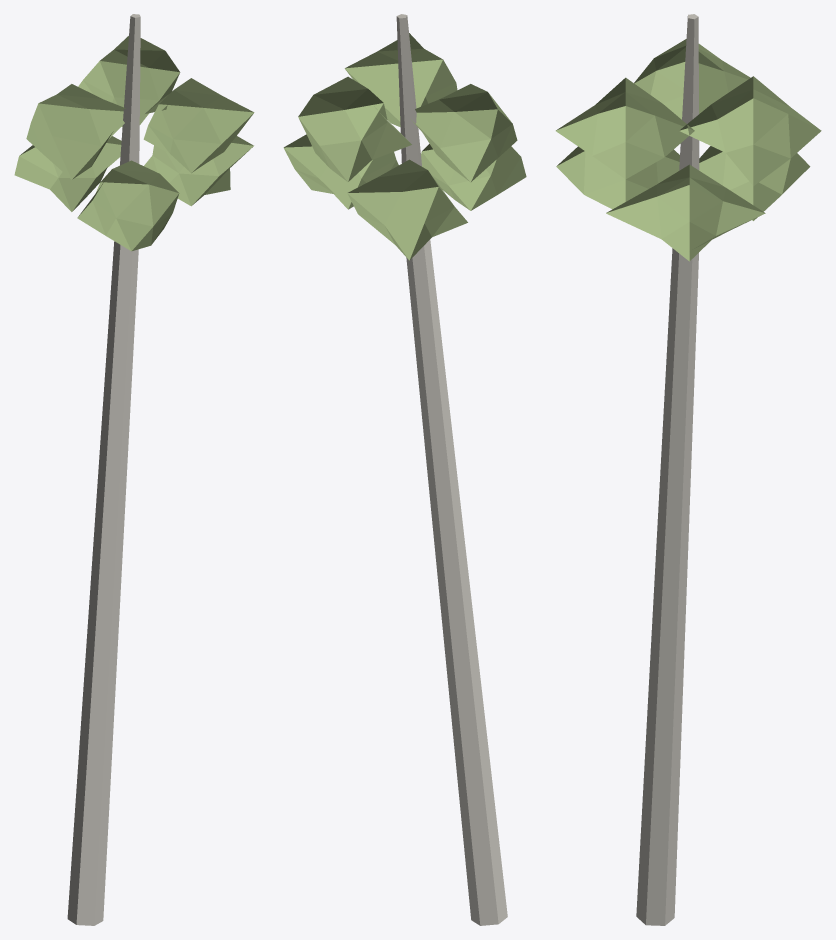
File: birch_v11.glb
3 renders of one model, left to right at view 1: azimuth 30°, elevation 25°; view 2: azimuth 150°, elevation 25°; view 3: azimuth 270°, elevation 25°, orthographic. The views are drawn at different scales.
Visible parts, largest first — view 1: lod0; view 2: lod0; view 3: lod0.
Part boxes in pixels (x1,y1,x2,y2): lod0: (14,14,254,925); lod0: (283,14,526,925); lod0: (555,14,821,925).
Size of what is drawn, in the model's own units: 1.91 by 7.01 by 1.81.
